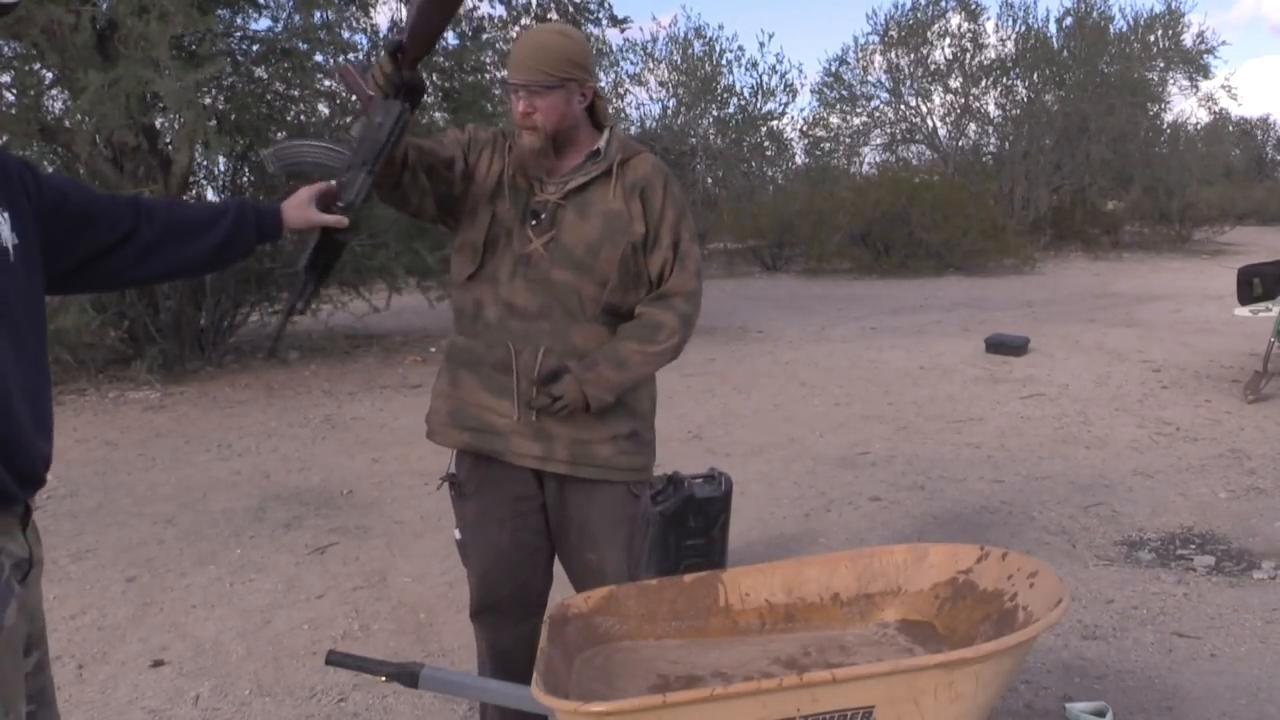AK47 Rifle: (259, 1, 463, 366)
